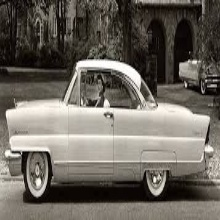no damage: (5, 58, 212, 204), (179, 58, 220, 95)
